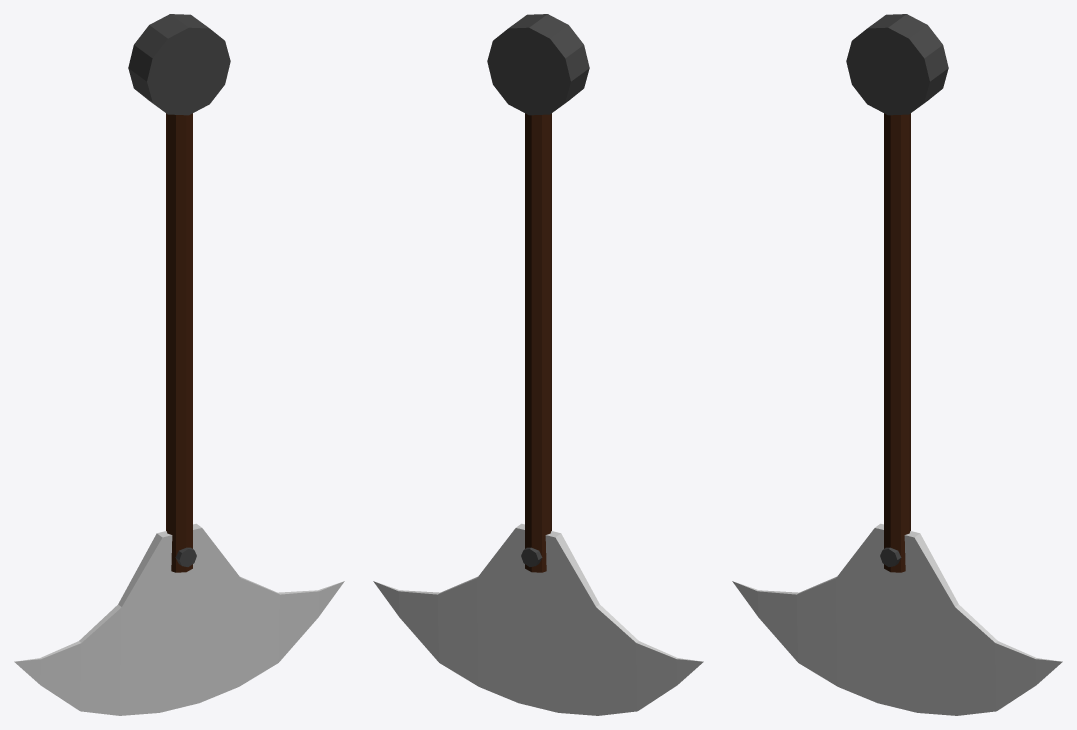
File: RotatingBlade.fbx
3 views of the same model, side by side, from view 1: azimuth 30°, elevation 25°; view 2: azimuth 150°, elevation 25°; view 3: azimuth 330°, elevation 25° (orthographic).
Parts seen in each view (by area): view 1: Cube.010; view 2: Cube.010; view 3: Cube.010.
Part boxes in pixels (x1=…): Cube.010: x1=14, y1=14, x2=344, y2=715; Cube.010: x1=373, y1=14, x2=703, y2=715; Cube.010: x1=732, y1=14, x2=1062, y2=715.
Size of the model in its own units: 170 by 338 by 16.72.
